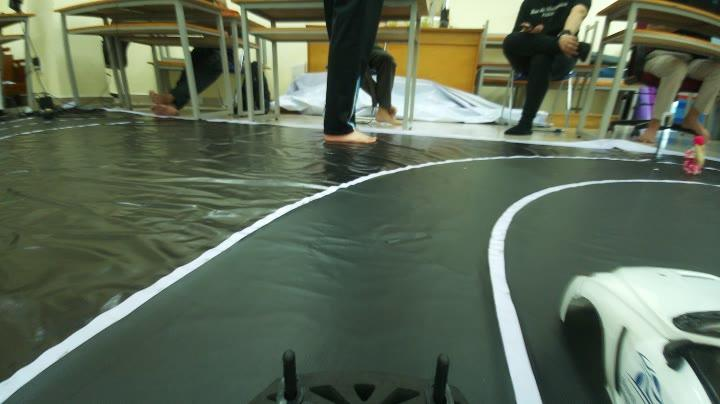car: (565, 256, 720, 404)
